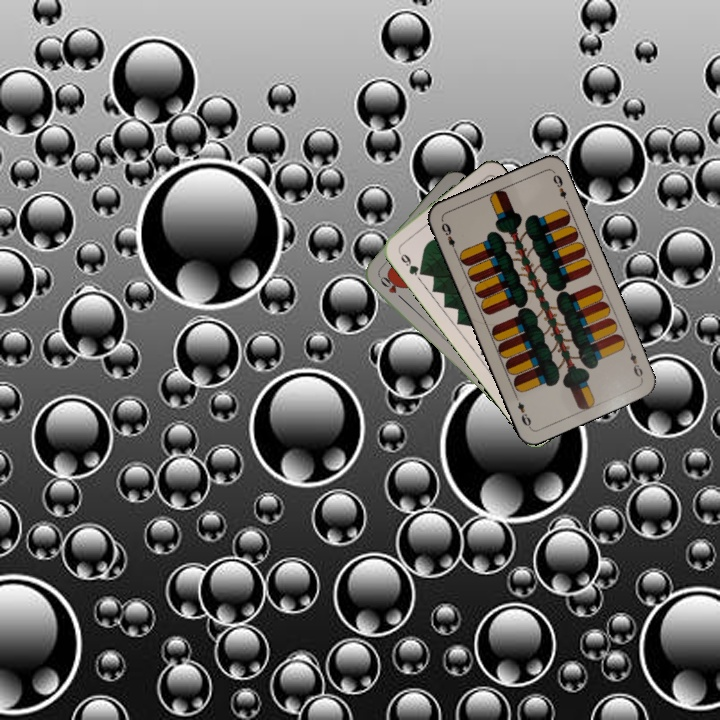E9: (437, 218, 459, 256), (624, 343, 645, 382)
G9: (394, 247, 427, 278)
HO: (374, 270, 406, 302)
